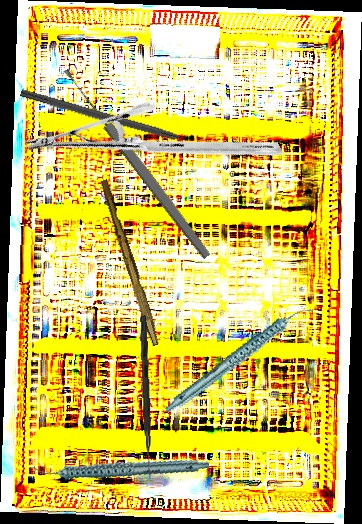Handpiece: (149, 303, 329, 415), (32, 428, 210, 507)
Hook Surgical: (19, 88, 204, 151), (138, 315, 155, 481)
Needle Holder: (23, 34, 284, 259)
Scalpel Handle: (96, 178, 165, 347)
Surgical Spoon: (60, 65, 214, 261)
